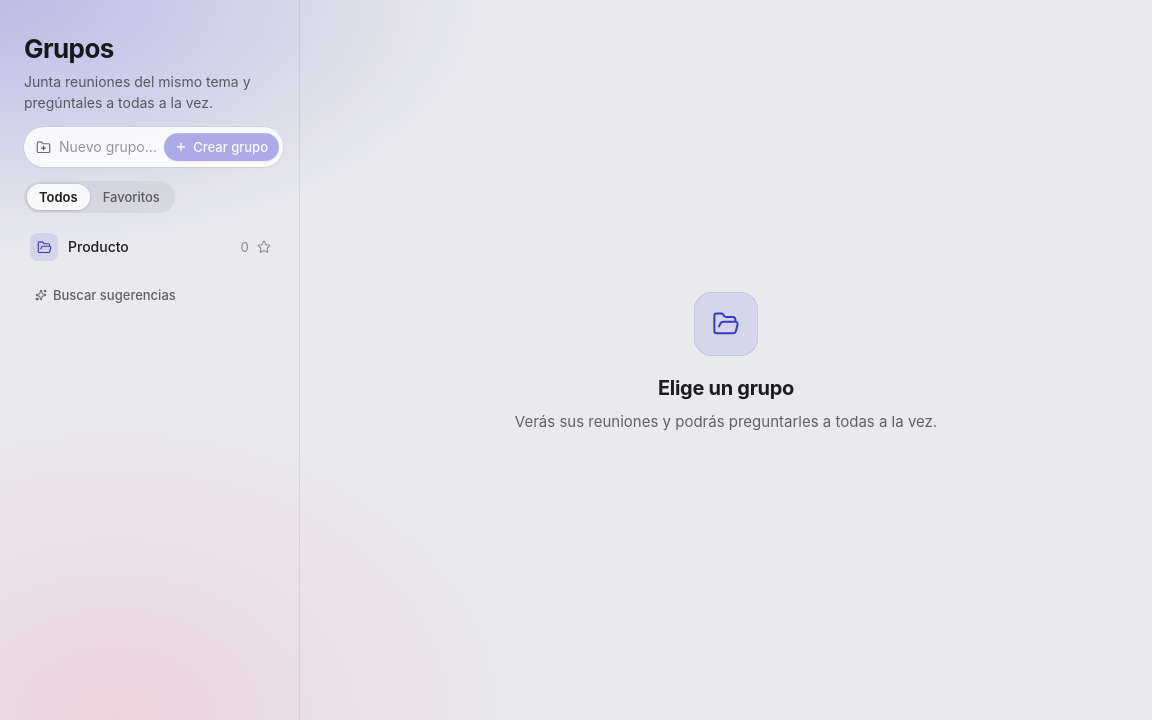
it: GroupsContainer › abre un grupo, lista sus reuniones y permite añadir otra
The width and height of the screenshot is (1152, 720).
Note: El contenedor ya cargó: forzamos recarga con el botón de actualizar.
Type "Otro" into the field named "Nombre del grupo nuevo".
click(108, 147); type("Otro")  # box [59,131,156,163]
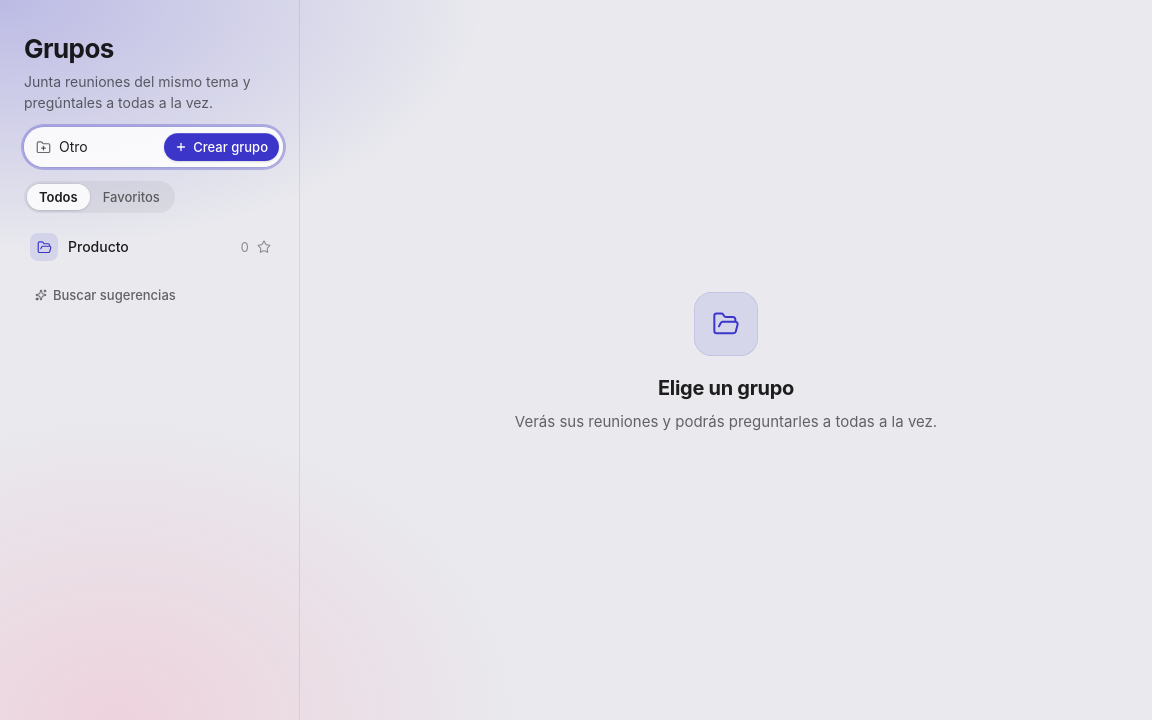
Click the button "Crear grupo".
click(222, 147)  # box [164,133,279,161]
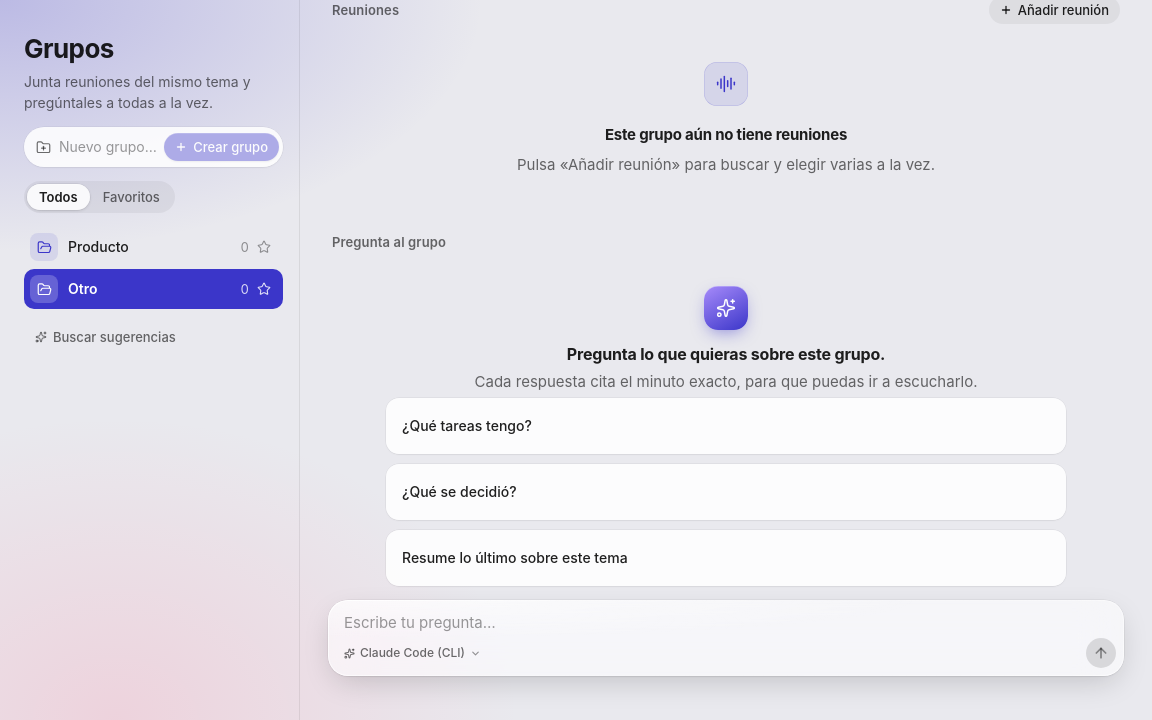
Click the button "Producto 0".
click(154, 247)  # box [24,227,283,267]
(page scrolled)
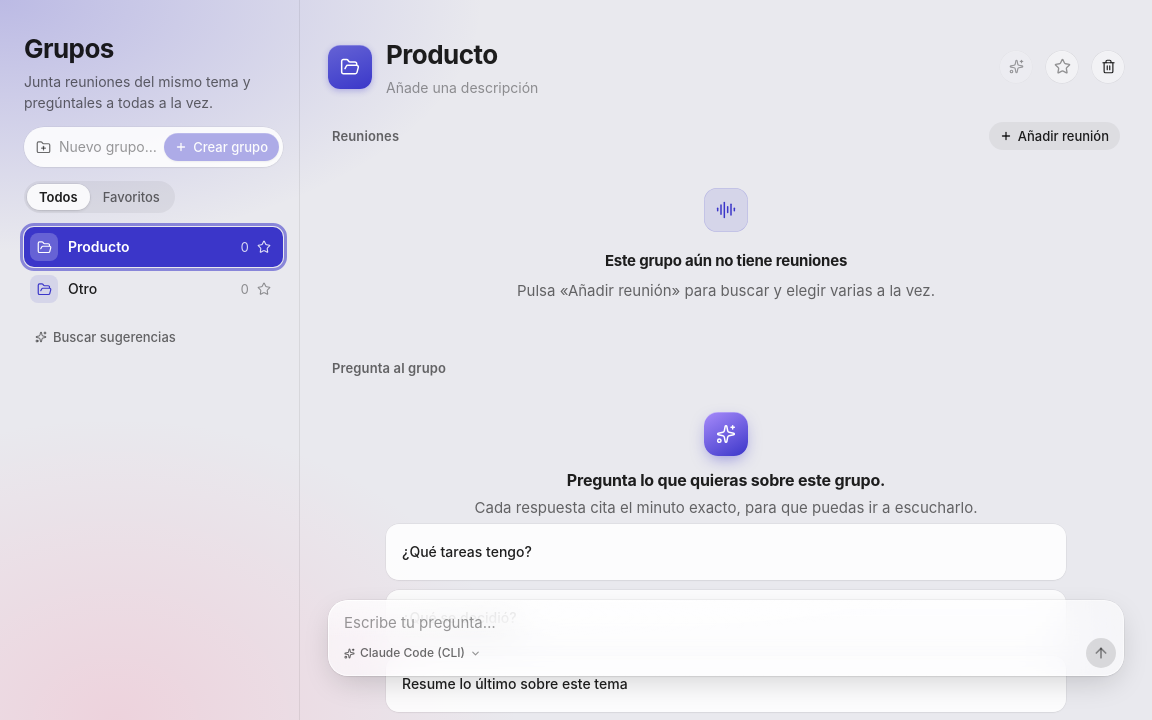
Click the button "Añadir reunión".
click(1054, 136)  # box [989,122,1120,150]
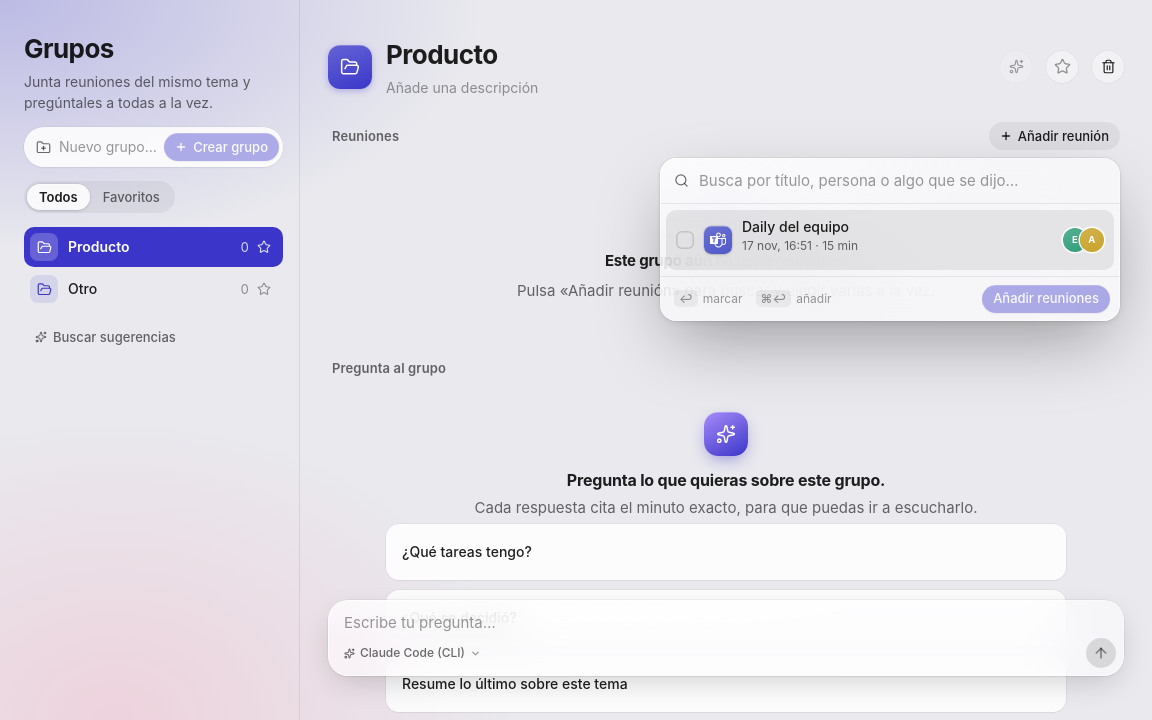
Click the option "Daily del equipo 17 nov, 16:51 · 15 min E A".
click(796, 226)  # box [666,210,1114,270]
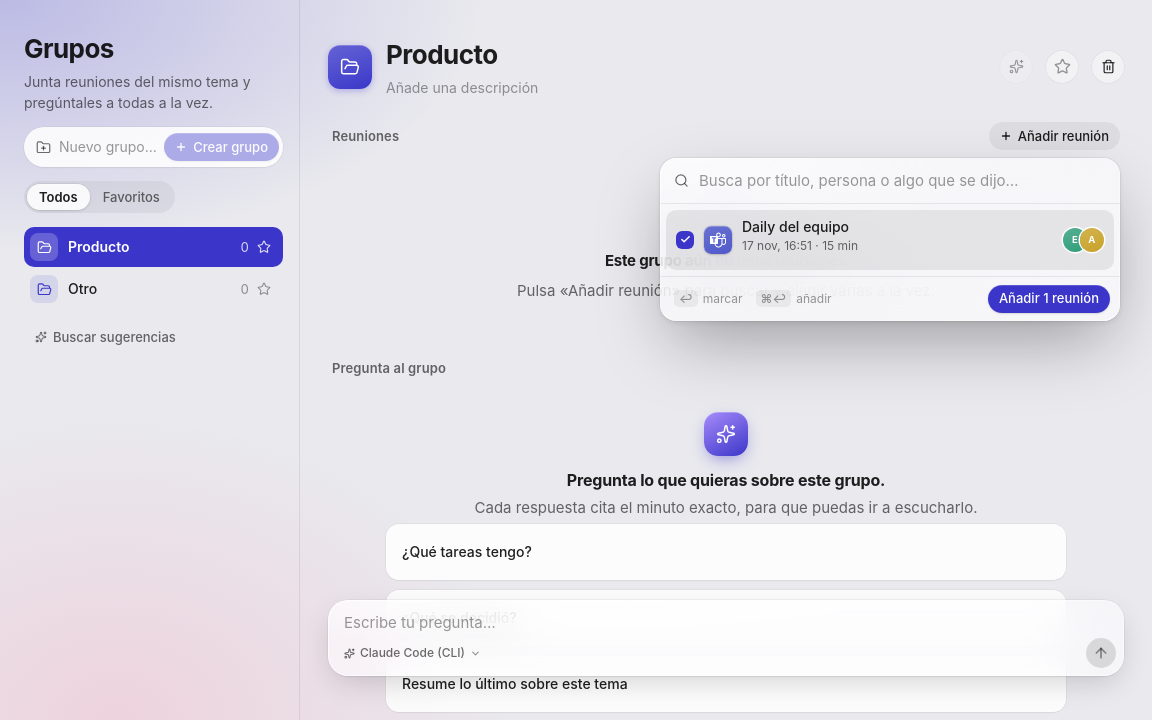
Click the button "Añadir 1 reunión".
click(1049, 299)  # box [988,285,1110,313]
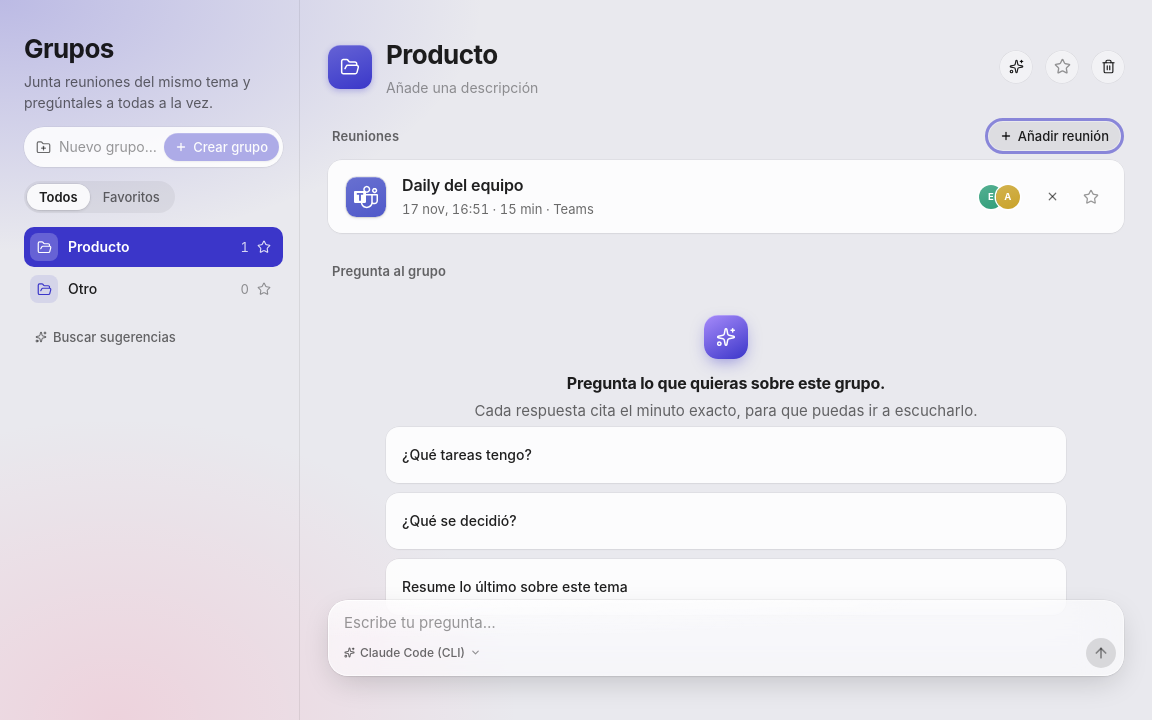
Check: the button "Daily del equipo 17 nov, 16:51 · 15 min · Teams E A" is shown, box [328,160,1026,233]
